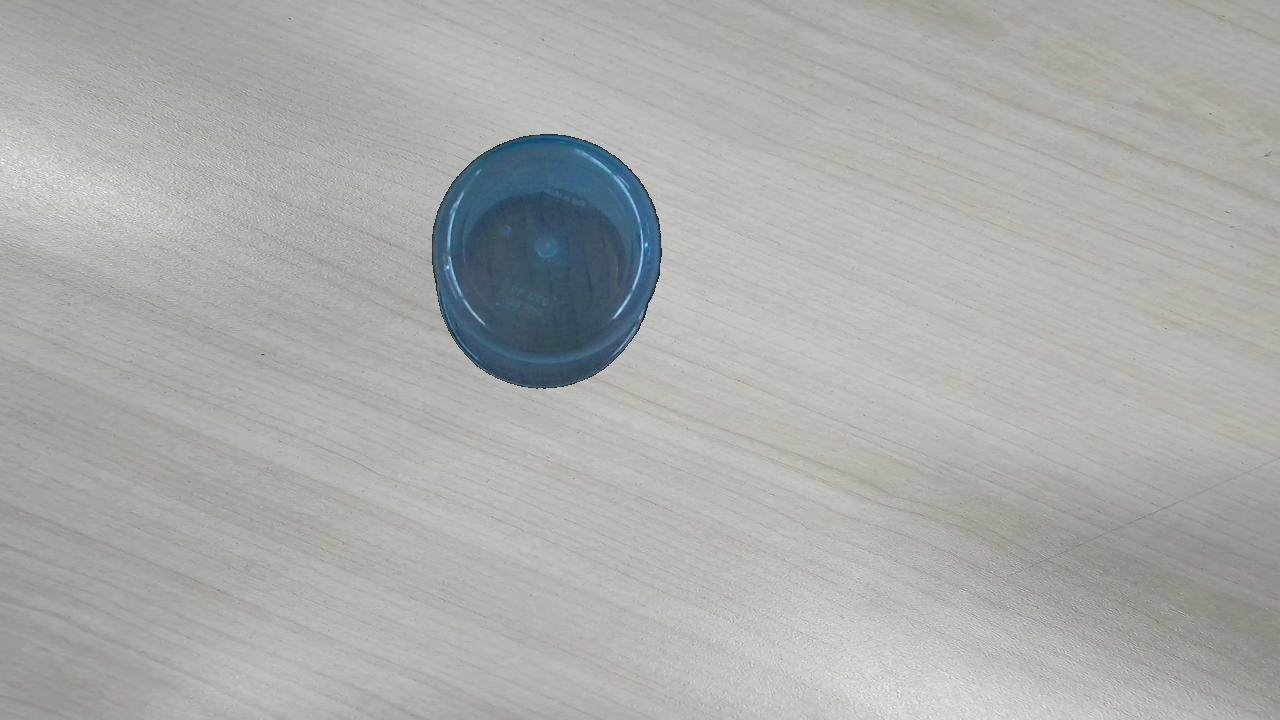cup: (432, 134, 663, 390)
